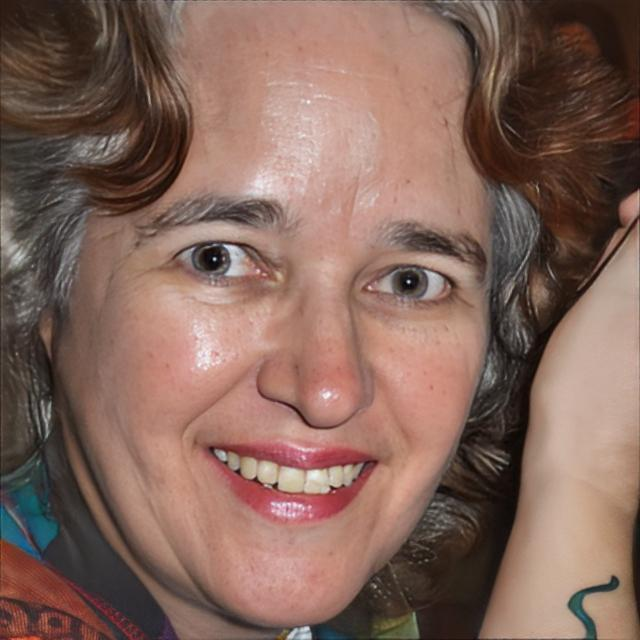happy: (74, 29, 493, 620)
